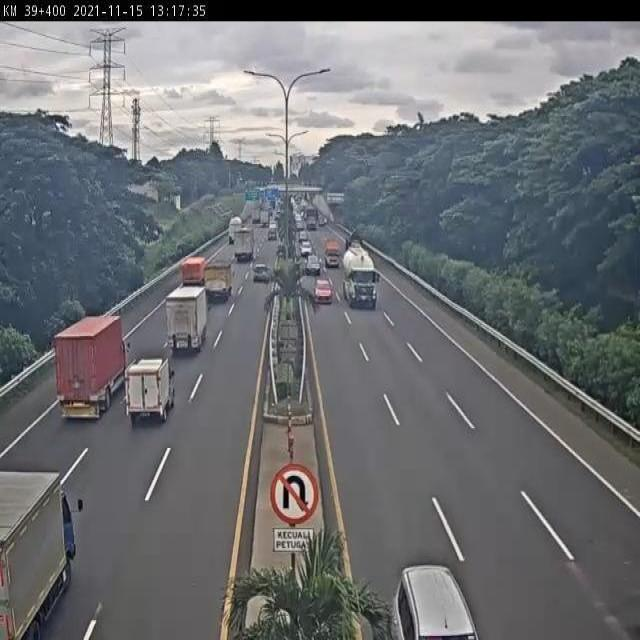Car: (381, 562, 479, 640), (309, 277, 340, 313), (249, 256, 276, 280)
Truck: (0, 470, 71, 640), (53, 314, 126, 419), (120, 356, 172, 444), (164, 284, 207, 353), (342, 243, 378, 309), (204, 258, 234, 301), (233, 226, 255, 264), (181, 257, 207, 287), (324, 238, 342, 267)
